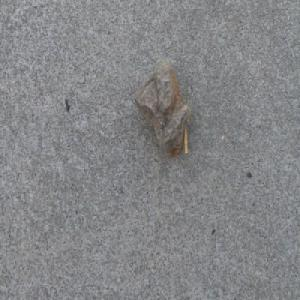Rock: (132, 54, 191, 159)
